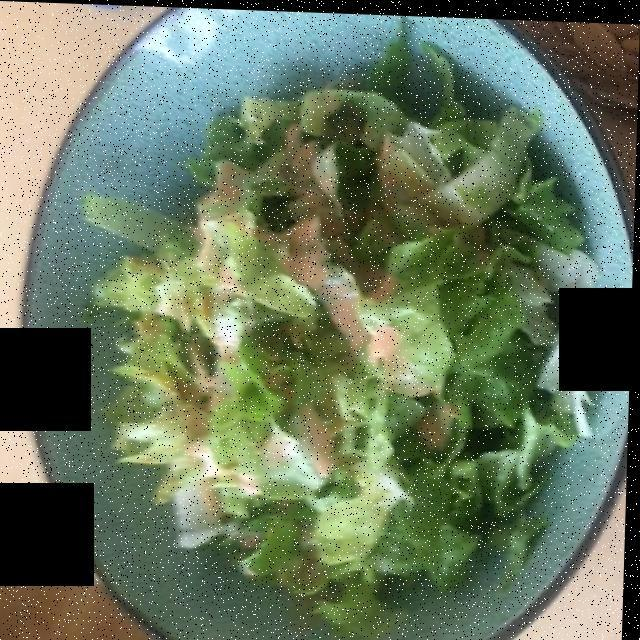salad: (109, 52, 580, 621), (202, 120, 460, 492)
